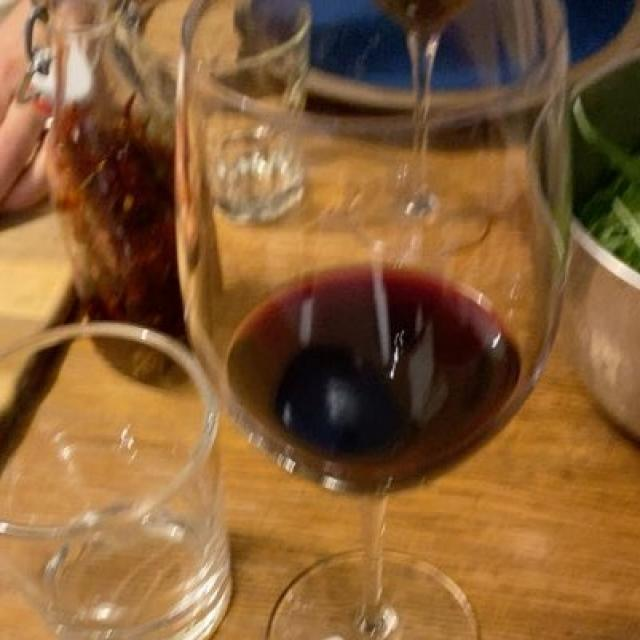wine: (228, 257, 532, 495)
